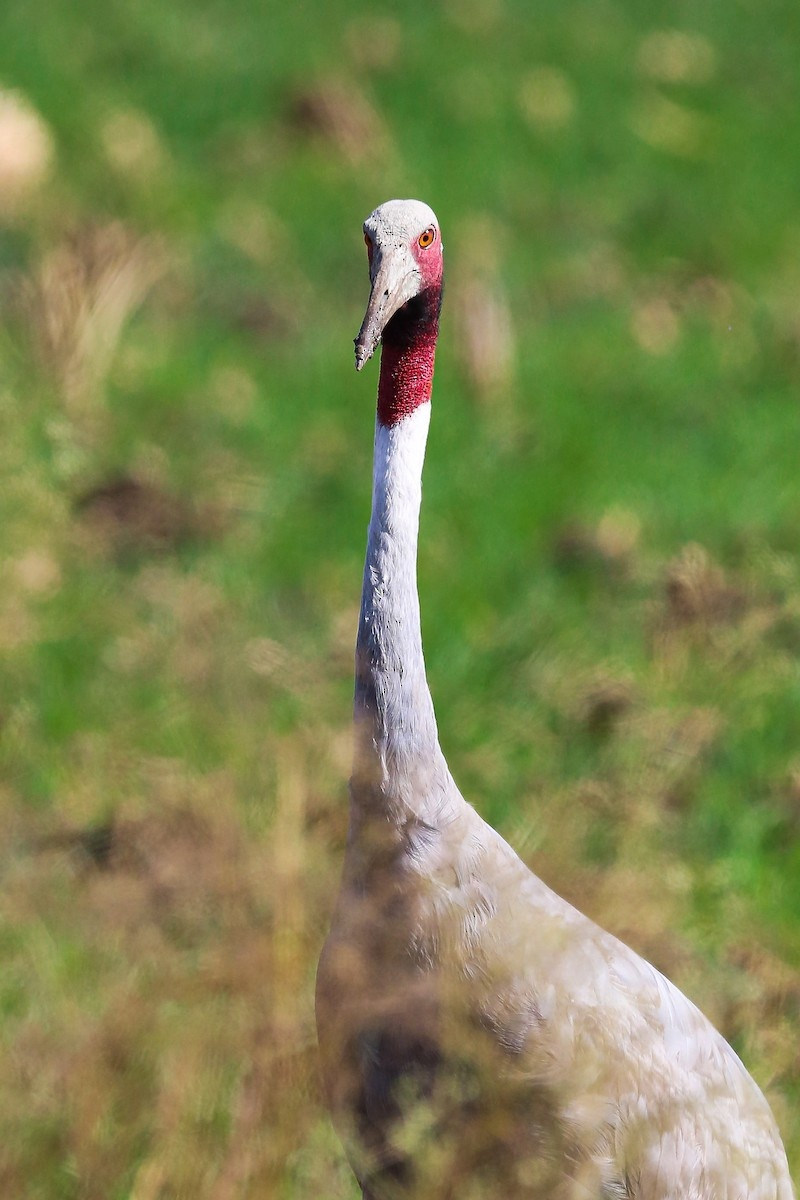crane: (315, 151, 800, 1200)
